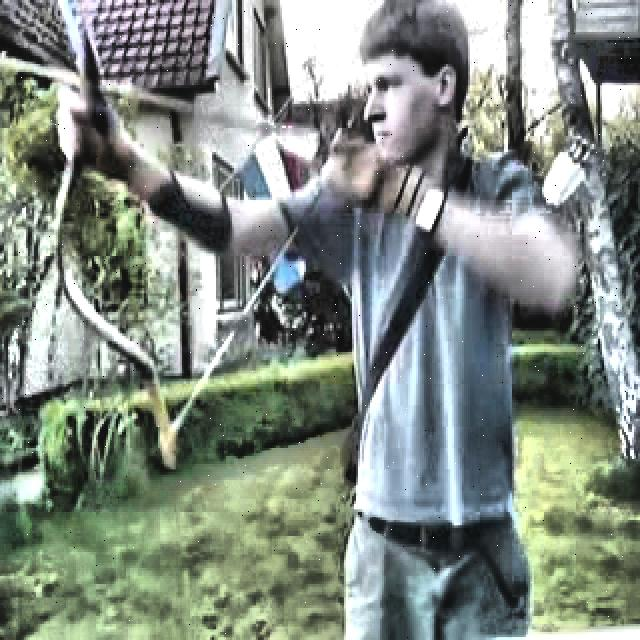P: (58, 4, 576, 636)
